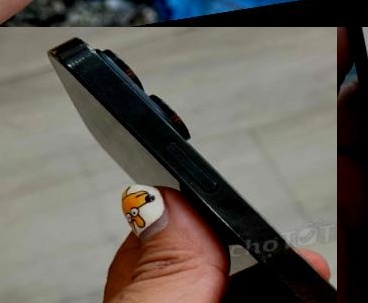scratch: (159, 132, 231, 208), (278, 267, 311, 303), (231, 220, 255, 246), (71, 36, 93, 58)
